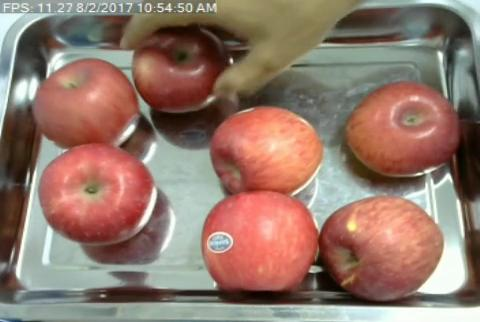apple: (321, 197, 445, 300), (201, 192, 318, 292), (38, 145, 156, 244), (346, 82, 463, 179), (211, 105, 323, 195), (34, 59, 139, 150), (132, 26, 226, 111)
